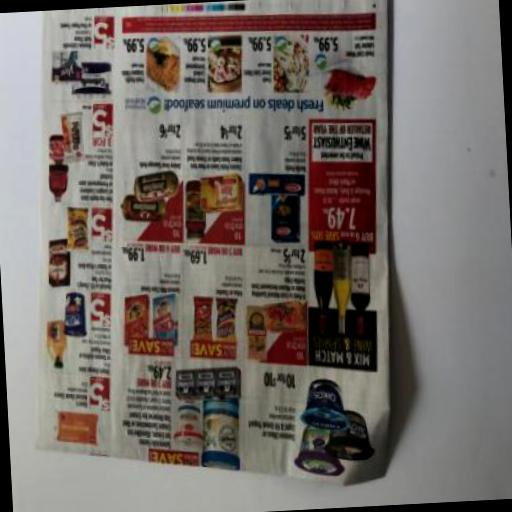paper: (14, 0, 412, 501)
